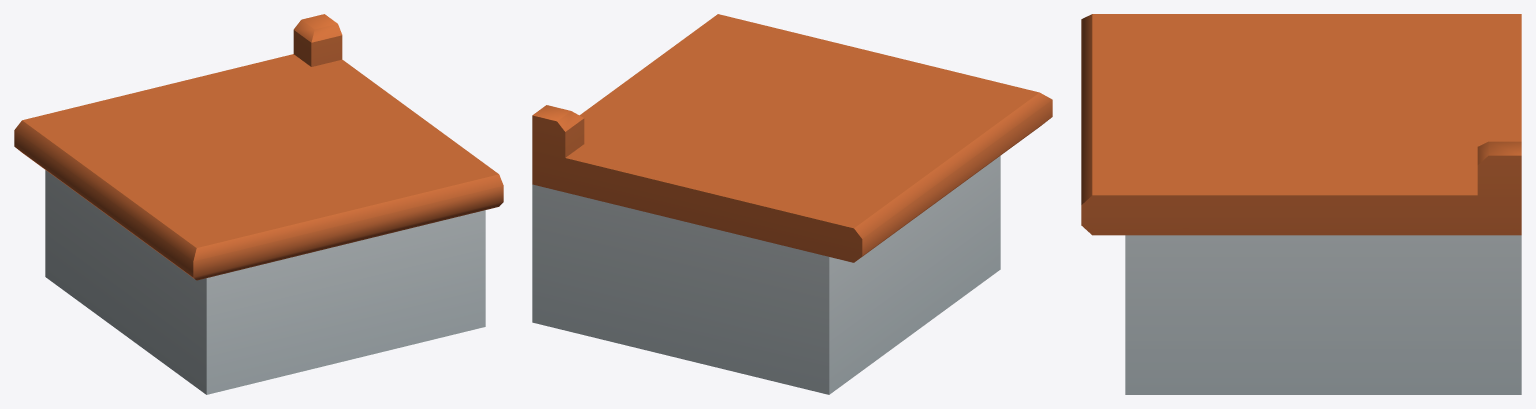
Rendered from kitchencounter_outercorner_backsplash.glb.
The picture shows the model from 3 angles, left to right: view 1: azimuth 30°, elevation 25°; view 2: azimuth 150°, elevation 25°; view 3: azimuth 270°, elevation 25°; orthographic projection. The views are drawn at different scales.
Visible parts, largest first — view 1: kitchencounter_outercorner_backsplash; view 2: kitchencounter_outercorner_backsplash; view 3: kitchencounter_outercorner_backsplash.
Part boxes in pixels (x1,y1,x2,y2): kitchencounter_outercorner_backsplash: (14, 14, 503, 394); kitchencounter_outercorner_backsplash: (532, 14, 1052, 394); kitchencounter_outercorner_backsplash: (1081, 14, 1521, 394).
Bounding box in the file's own units: 2 × 1.2 × 2.
Materials: 1 (1 with a texture image).
